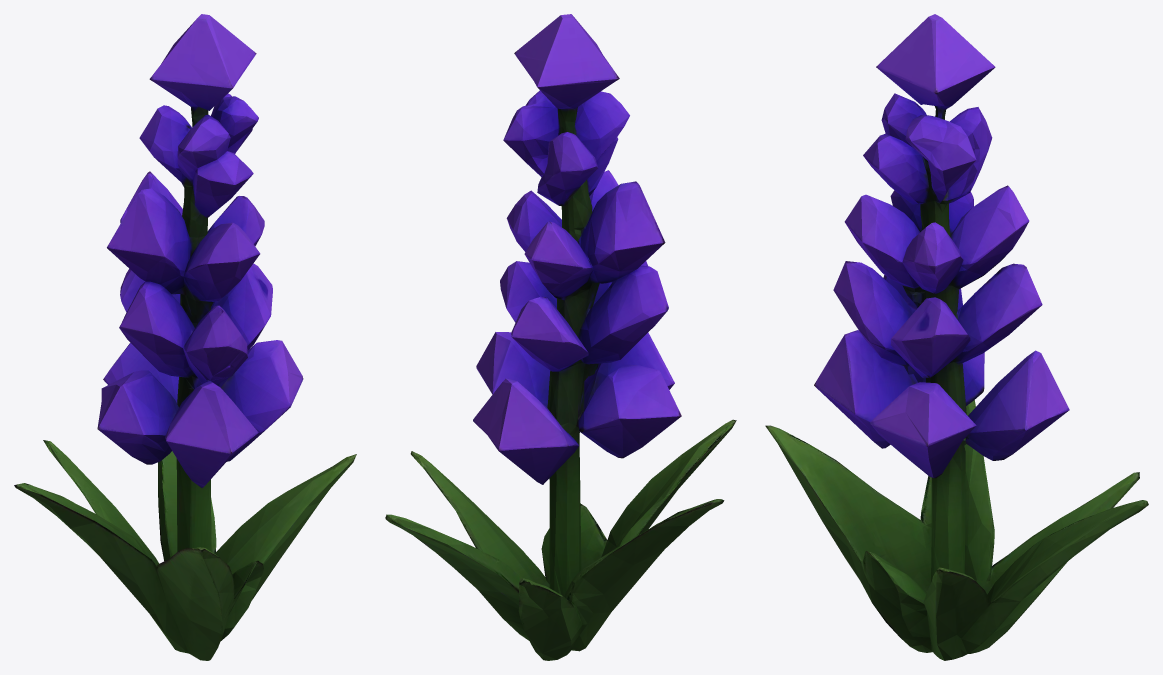
File: lavender_spike.glb
3 views of the same model, side by side, from view 1: azimuth 30°, elevation 25°; view 2: azimuth 150°, elevation 25°; view 3: azimuth 270°, elevation 25° (orthographic).
Visible parts, largest first — view 1: world; view 2: world; view 3: world.
Boxes of the visible parts, bbox=[...] form: world: bbox=[14, 14, 356, 660]; world: bbox=[385, 14, 736, 660]; world: bbox=[765, 14, 1148, 660].
Bounding box in the file's own units: 0.5409 × 0.9988 × 0.5452.
Materials: 1 (1 with a texture image).
